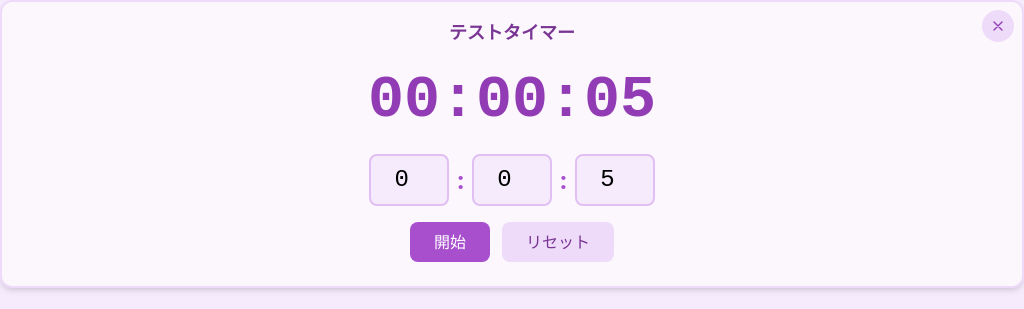
TimerCard › 3.1 個別タイマーの表示と状態管理 › リセットボタンをクリックすると初期時間に戻る
Click the button with test id "start-button" at (450, 242), box [410,222,490,262]
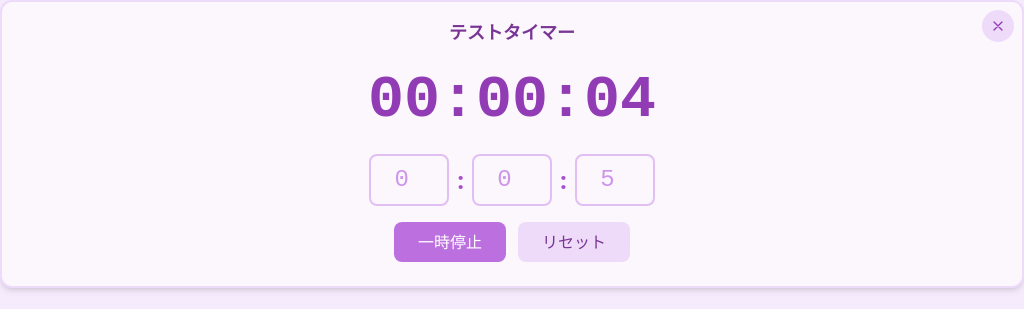
Expected: the text with test id "timer-display" reads "00:00:04", [368,66,656,134]
Click the button with test id "reset-button" at (574, 242), box [518,222,630,262]
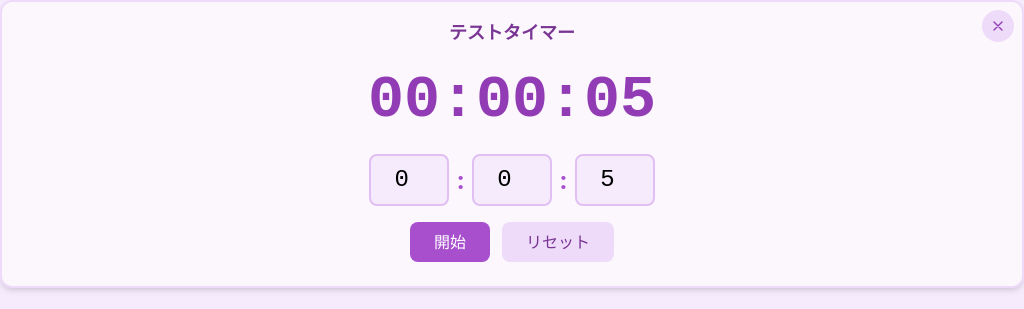
Expected: the text with test id "timer-display" reads "00:00:05", [368,66,656,134]
Expected: the button with test id "start-button" is shown, [410,222,490,262]
